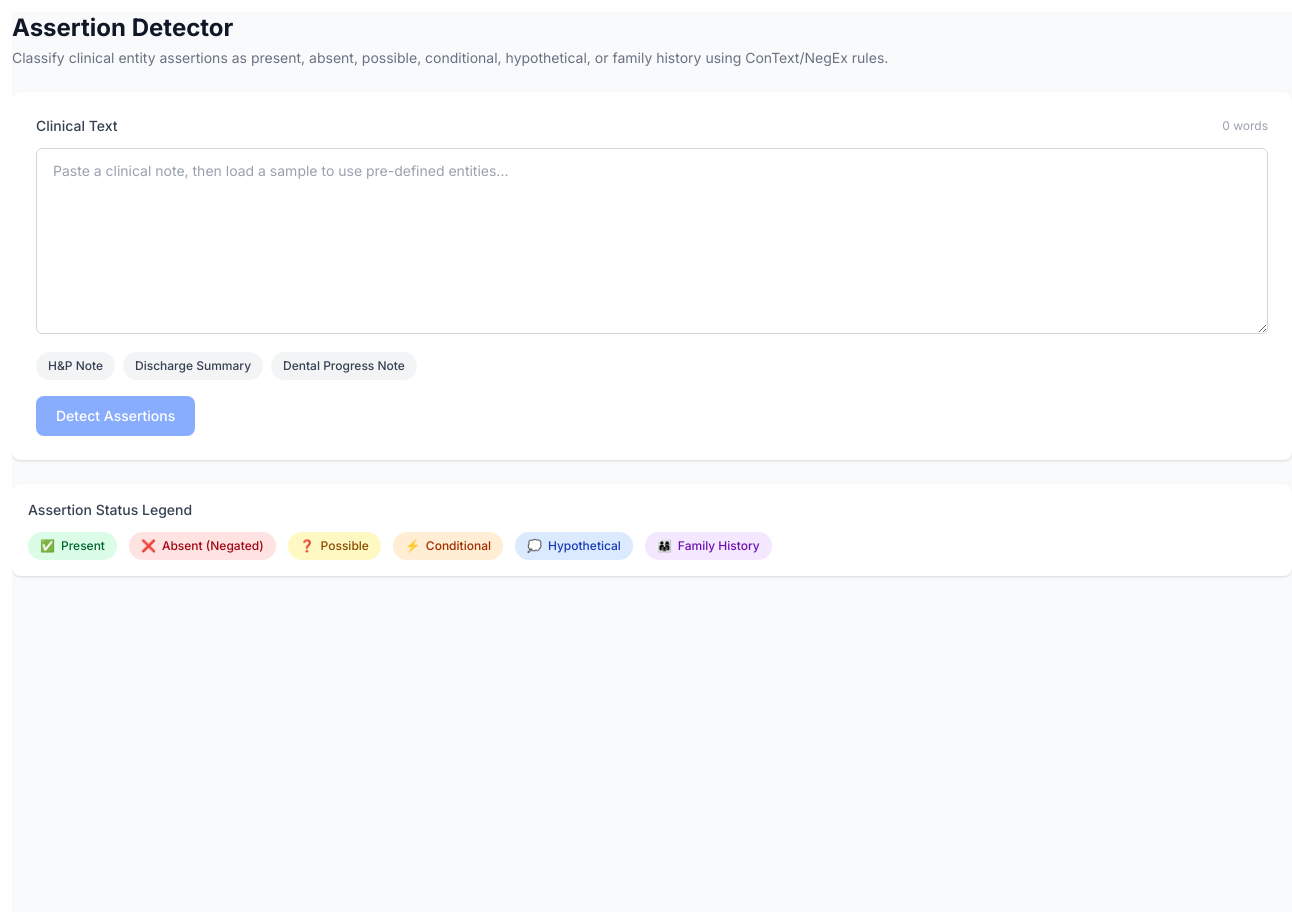
Test: AssertionDetector › API integration › renders entity text in results table
Click the button "Dental Progress Note": click(344, 366) left=271, top=352, right=417, bottom=380
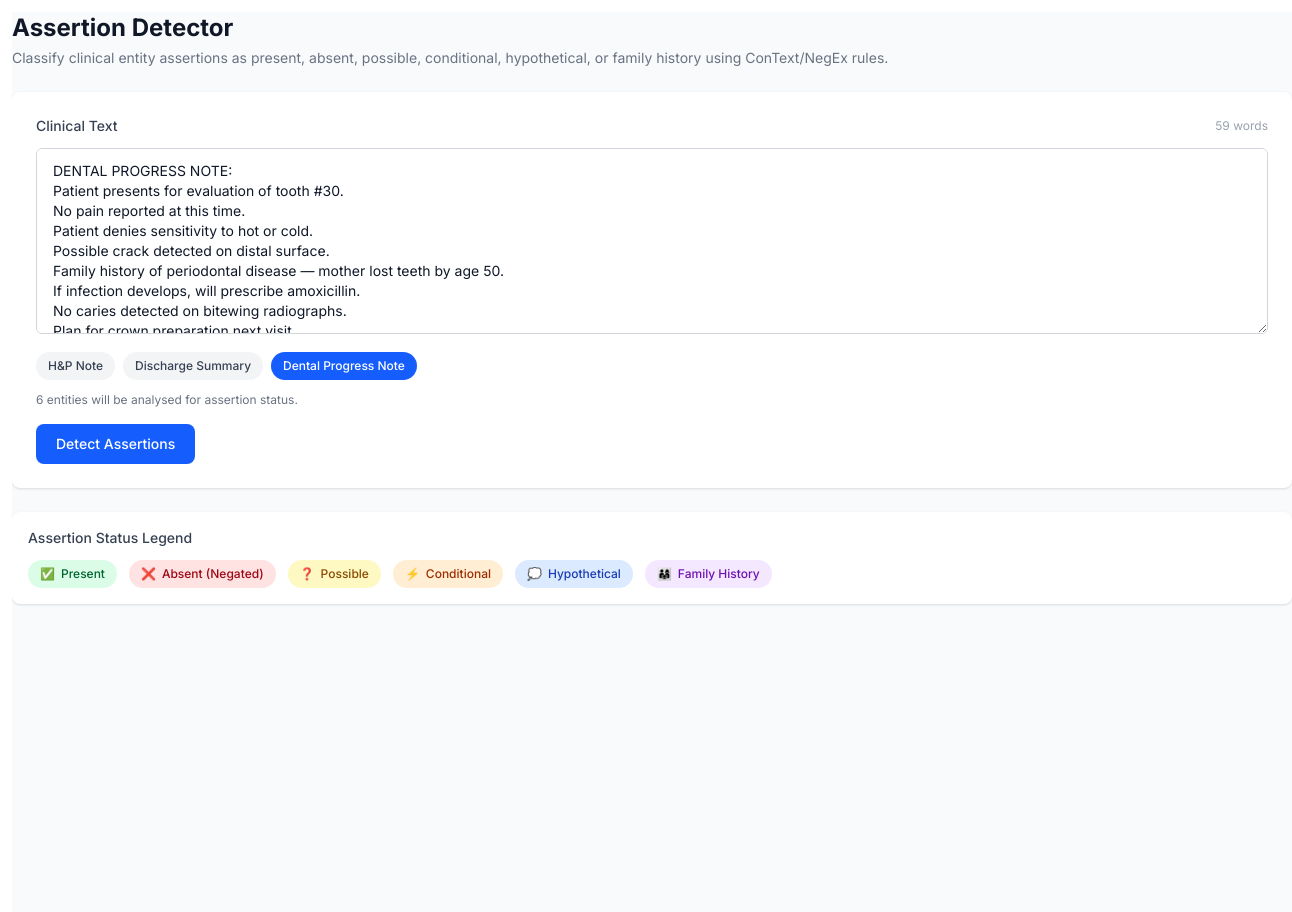
Click the button "Detect Assertions": click(116, 444) left=36, top=424, right=195, bottom=464
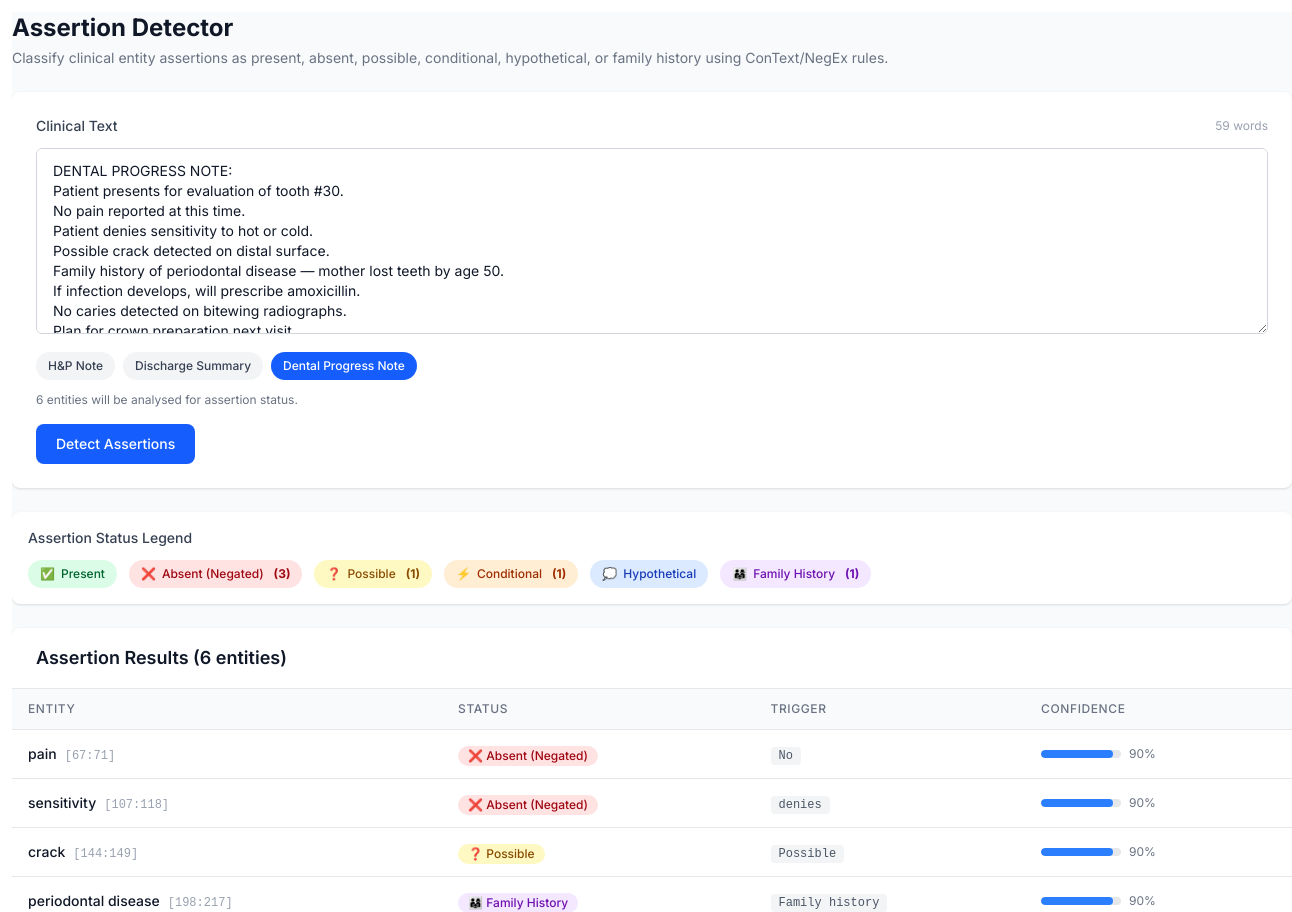
expect the text "pain" is shown: met, box left=28, top=745, right=57, bottom=762
expect the text "sensitivity" is shown: met, box left=28, top=794, right=96, bottom=811
expect the text "crack" is shown: met, box left=28, top=843, right=65, bottom=860
